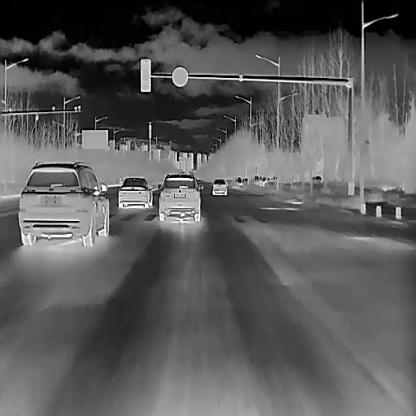car: (18, 161, 109, 245), (156, 172, 203, 220), (117, 176, 152, 208), (211, 178, 227, 195), (234, 176, 242, 184)
